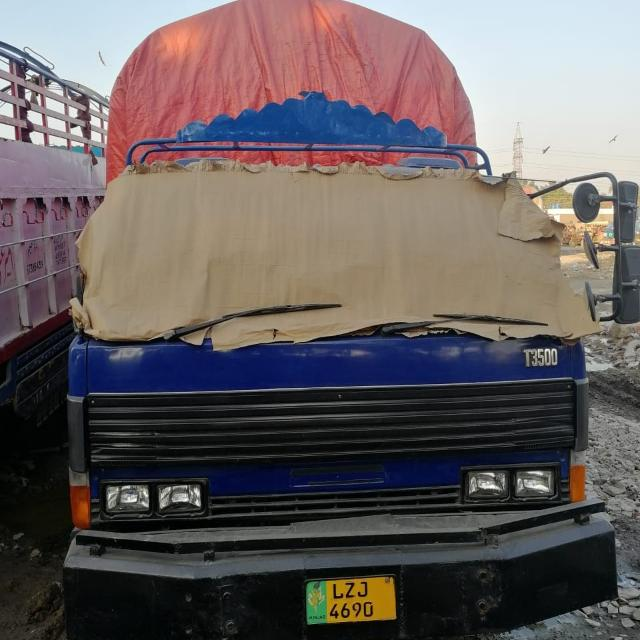plate: (302, 574, 398, 626)
